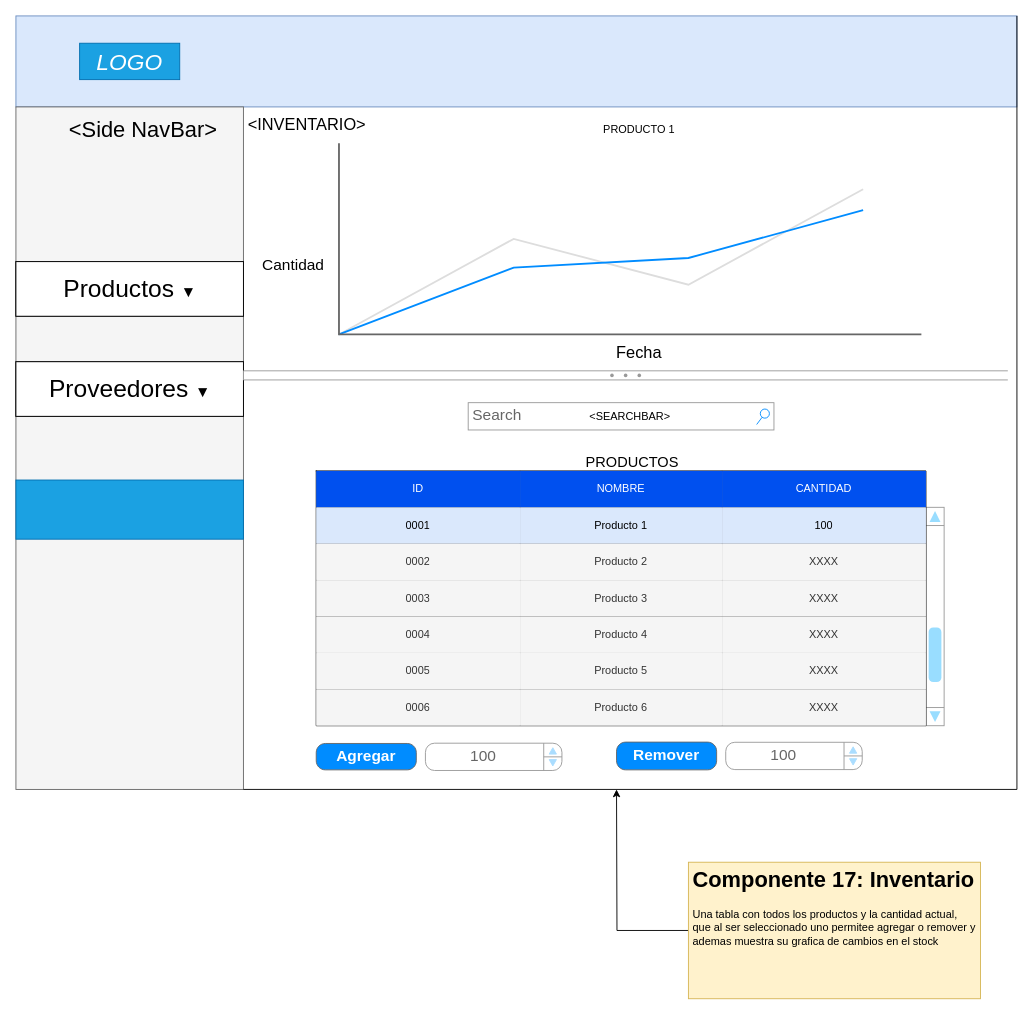
Image size: 1034x1015. Some labels were removed from this diagram. The box of each missing label's shape, as (x1, y1, x2, y2) in pixels:
<HEADER>: (15, 15, 1017, 107)
Inventario: (15, 479, 243, 539)
